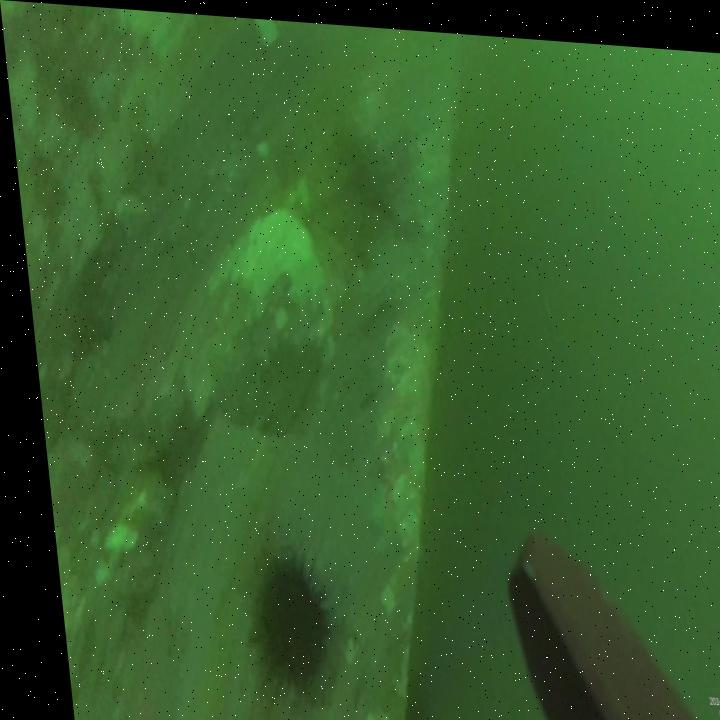echinus: (220, 530, 329, 707)
